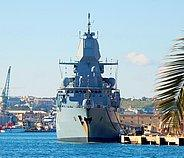MIL_Ship: (53, 20, 123, 142)
